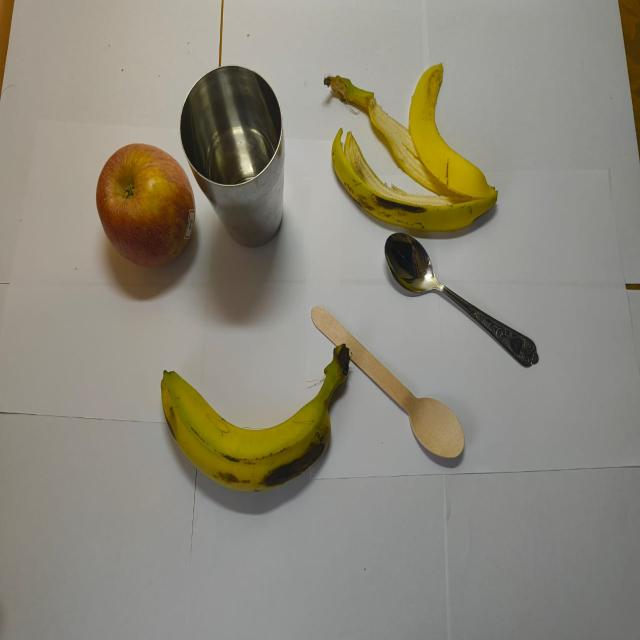Apple-Bio: (94, 139, 200, 271)
Banana-Bio: (319, 60, 504, 236), (157, 339, 355, 498)
Steel-NonBio: (383, 227, 542, 371), (178, 62, 287, 252)
Wooden Spoon-Bio: (310, 298, 469, 469)
